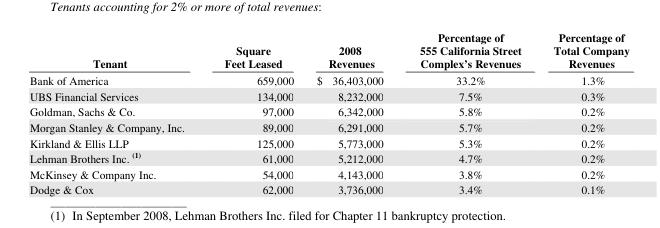table: (29, 28, 628, 196)
table column: (29, 28, 203, 196), (400, 28, 536, 196), (203, 28, 304, 196), (304, 28, 400, 196), (536, 28, 628, 196)
table column header: (29, 28, 628, 71)
table row: (29, 28, 628, 71), (29, 71, 628, 87), (29, 87, 628, 103), (29, 118, 628, 134), (29, 149, 628, 165), (29, 165, 628, 181), (29, 103, 628, 118), (29, 134, 628, 149), (29, 181, 628, 196)
